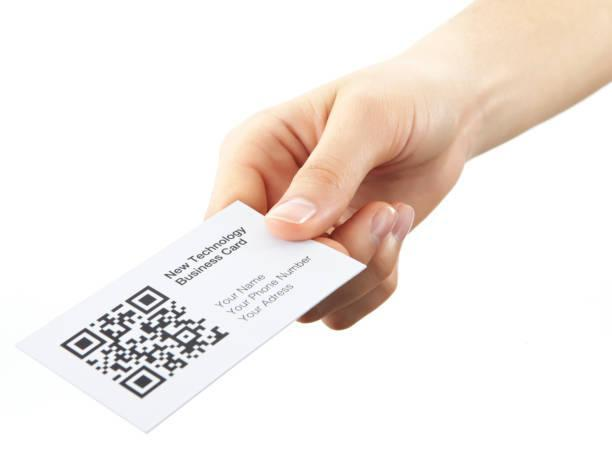Finder pattern: (120, 282, 173, 317), (55, 326, 107, 359), (118, 363, 167, 398)
